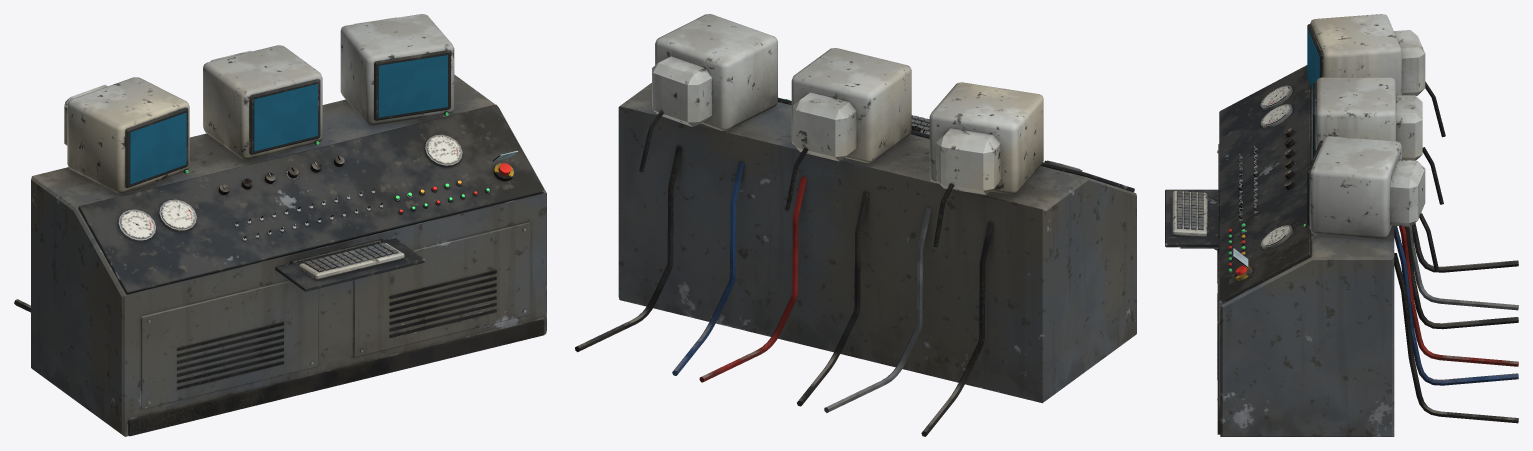
The model's file is ControlConsole.fbx.
3 renders of one model, left to right at view 1: azimuth 30°, elevation 25°; view 2: azimuth 150°, elevation 25°; view 3: azimuth 270°, elevation 25°, orthographic. The views are drawn at different scales.
Parts seen in each view (by area): view 1: Frame, Screen; view 2: Frame; view 3: Frame, Screen.
Part boxes in pixels (<box>): Frame: <box>14,14,546,436</box>; Screen: <box>130,55,447,184</box>; Frame: <box>575,14,1136,436</box>; Frame: <box>1165,14,1518,436</box>; Screen: <box>1307,28,1319,158</box>.
Size of the model in its own units: 7.2 by 4.29 by 5.56.
1 material, 1 textured.
